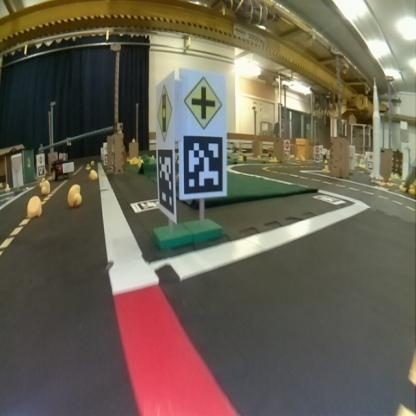Duckie: (67, 183, 81, 207), (26, 195, 40, 217), (41, 180, 49, 194), (398, 181, 405, 192), (89, 170, 97, 178), (4, 183, 10, 191), (323, 165, 328, 173)
Duckiebot: (50, 158, 74, 179)
Intersection sign: (185, 76, 221, 128)
QR code: (181, 136, 223, 192), (156, 149, 173, 213), (130, 200, 158, 212), (38, 164, 44, 174)
Signal sign: (156, 85, 172, 141)
